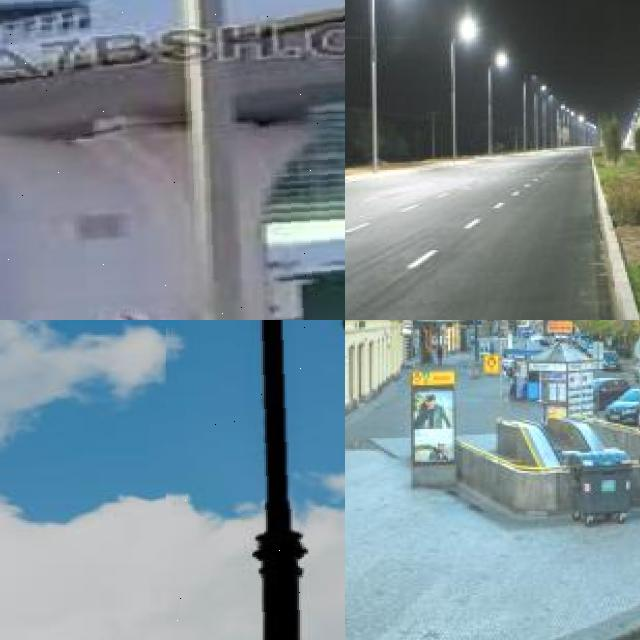street light: (0, 0, 345, 320), (165, 320, 345, 640), (370, 0, 412, 172), (451, 21, 478, 159), (488, 55, 509, 157), (475, 320, 510, 370), (520, 72, 537, 148), (534, 84, 546, 150), (489, 320, 513, 350)
